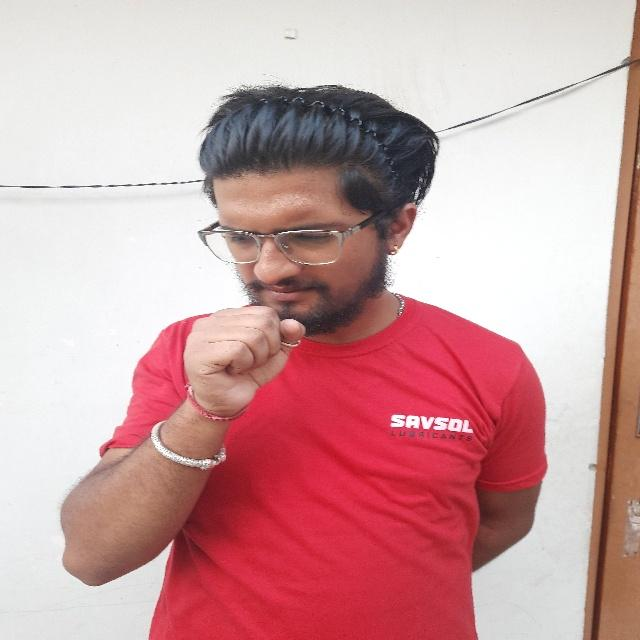Fist Mouth: (160, 93, 389, 424)
